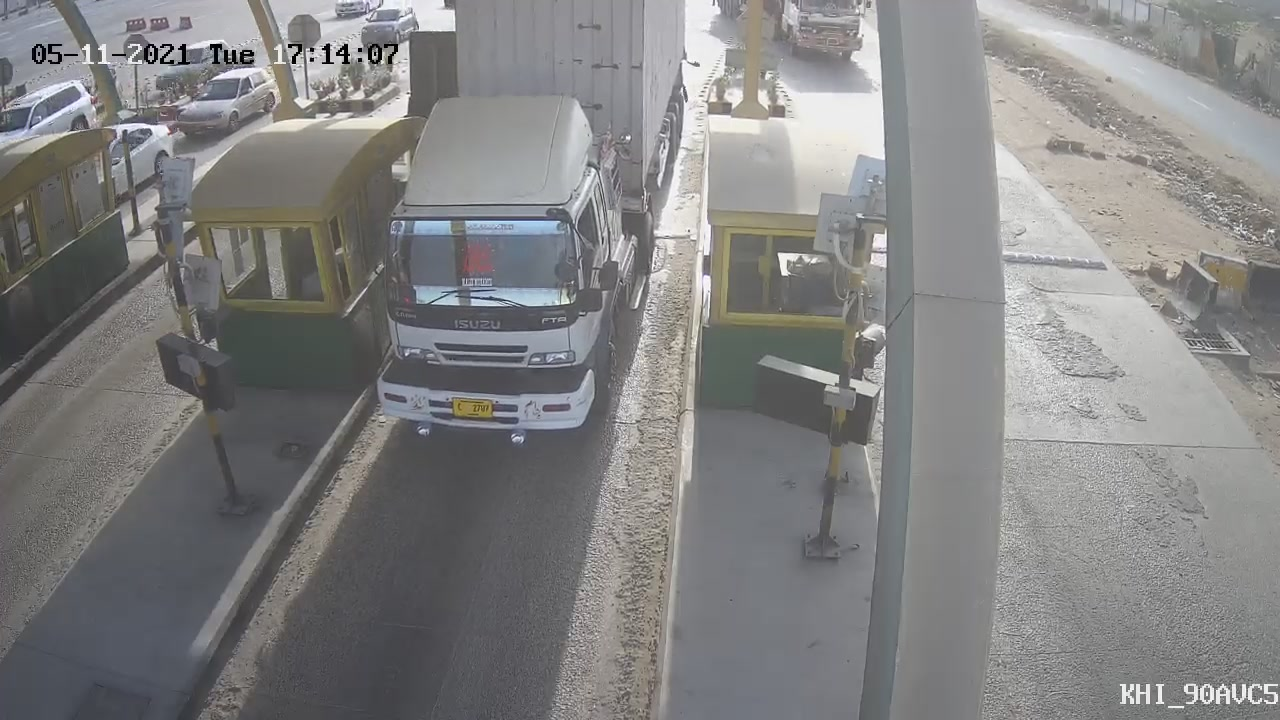F6: (330, 1, 703, 473)
